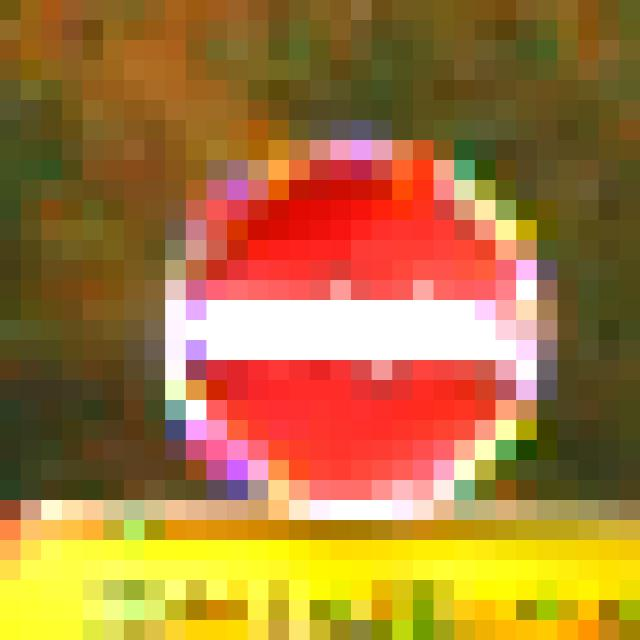No Entry: (125, 121, 517, 521)
